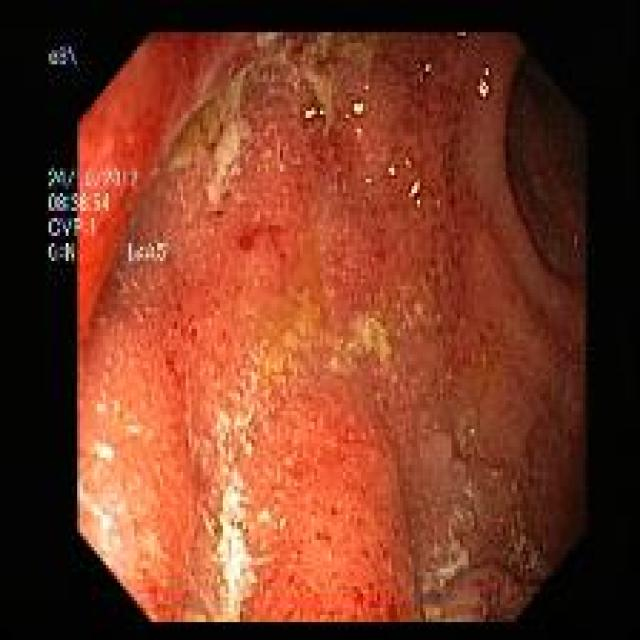ulcerative-colitis: (79, 33, 585, 622)
